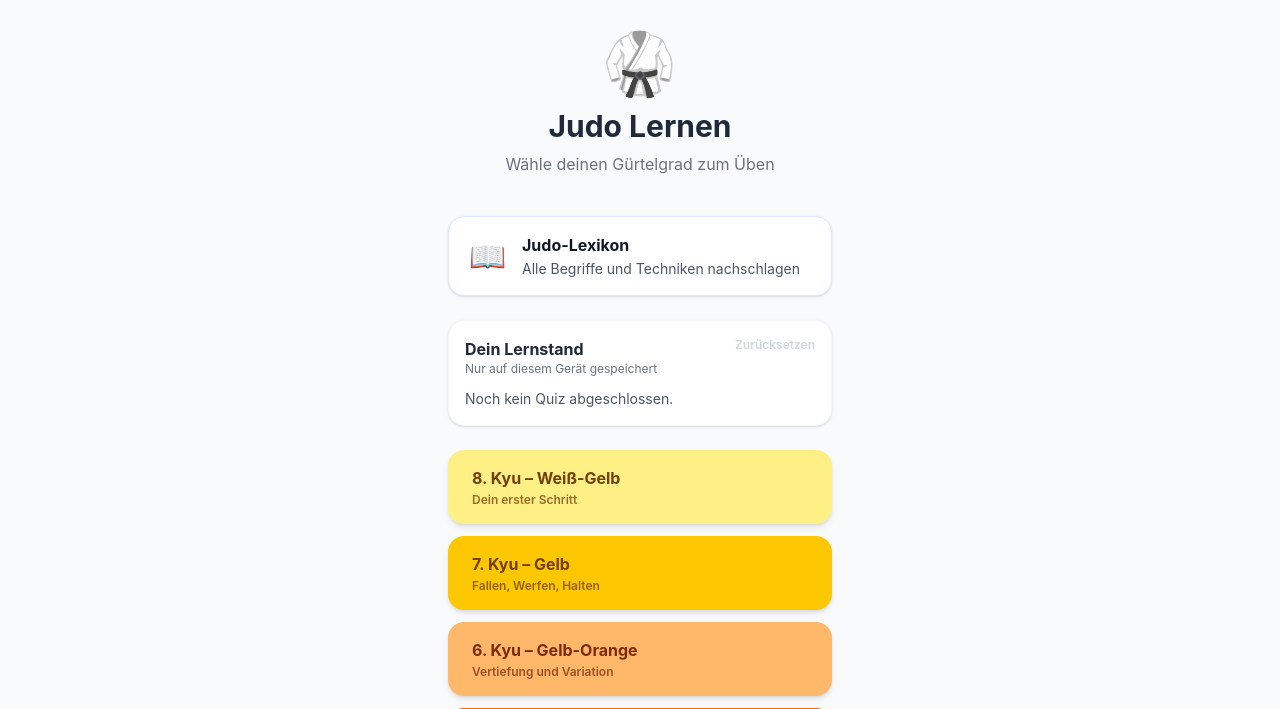
Test case: App – integration › keeps an in-progress quiz mounted while app information is open
This screenshot has width=1280, height=709.
Click the button with test id "grade-btn-kyu8".
click(546, 478)  # box left=448, top=450, right=832, bottom=524
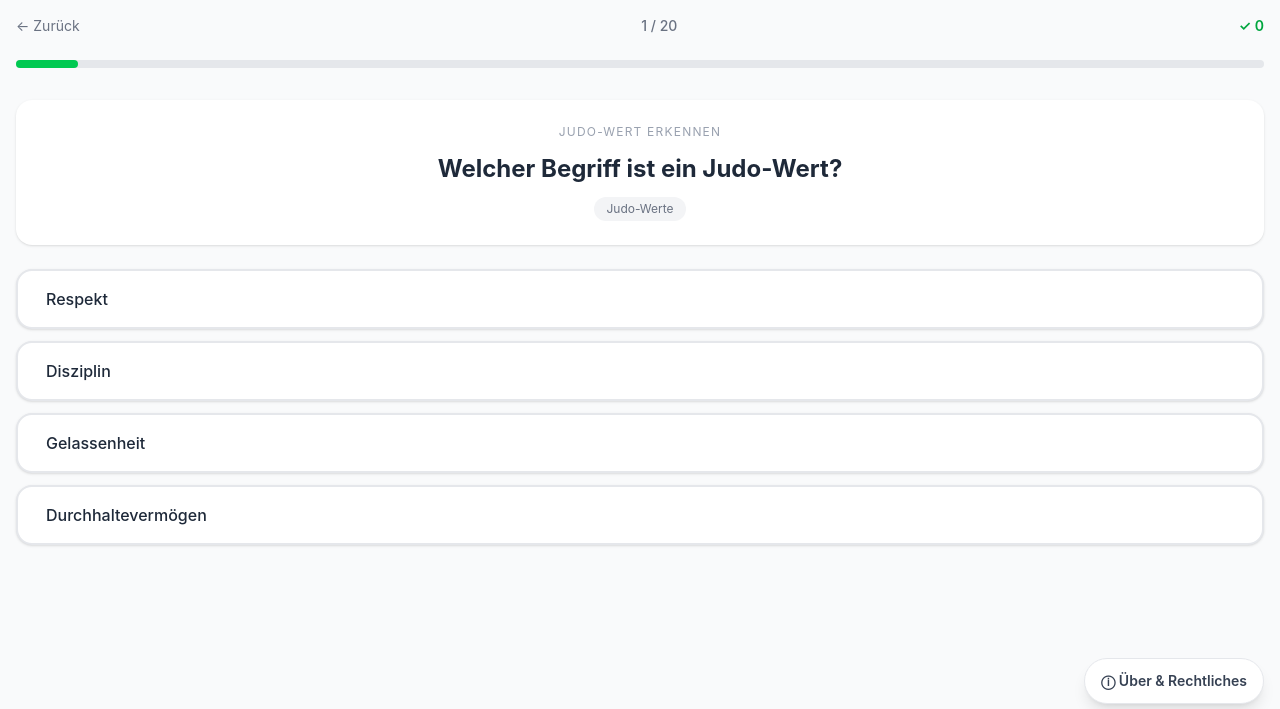
Click the button with test id "choice-correct".
click(77, 299)  # box left=16, top=269, right=1264, bottom=329
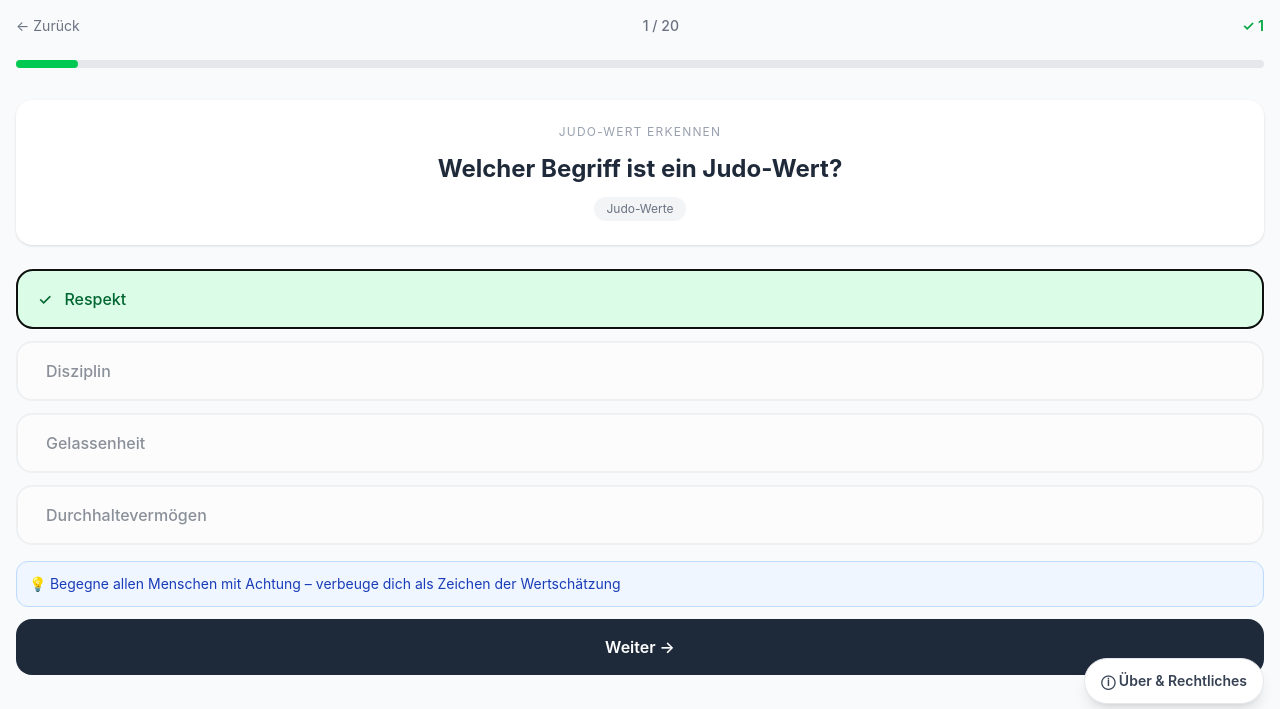
Click the button with test id "next-btn".
click(640, 647)  # box left=16, top=619, right=1264, bottom=675
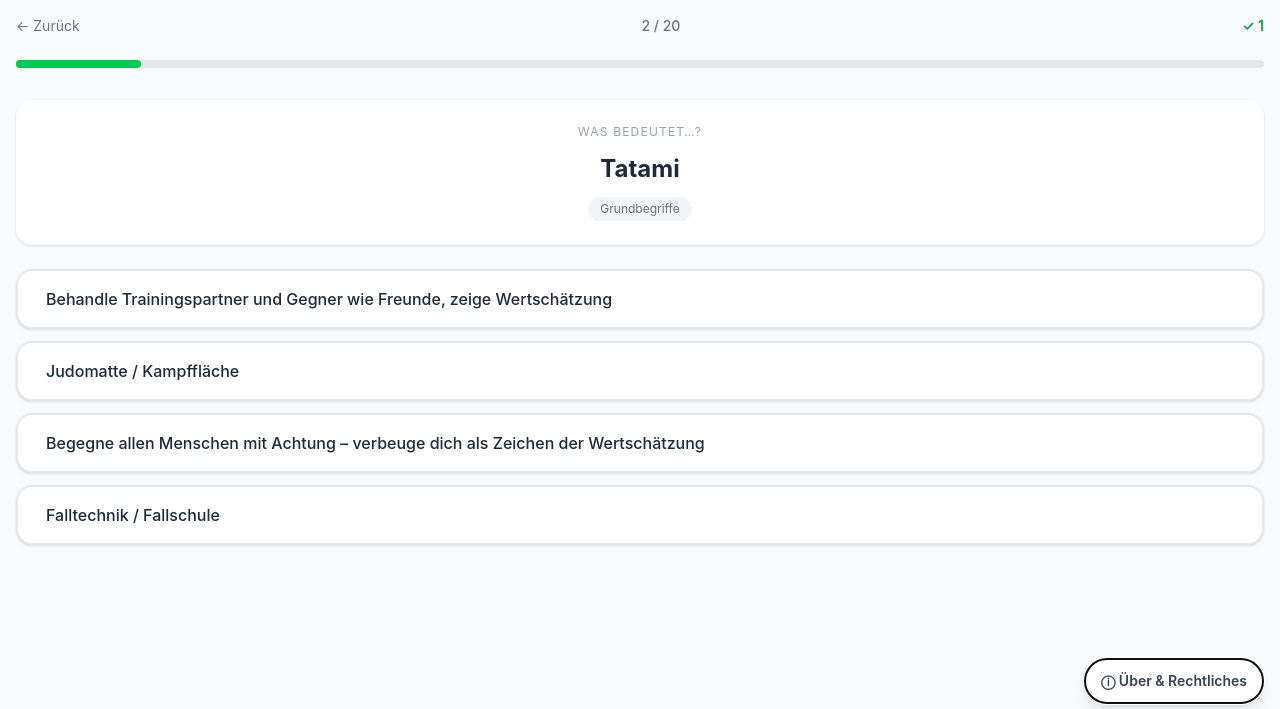
Check: the text with test id "score" shows "1", box left=1258, top=17, right=1264, bottom=34
Press Enter
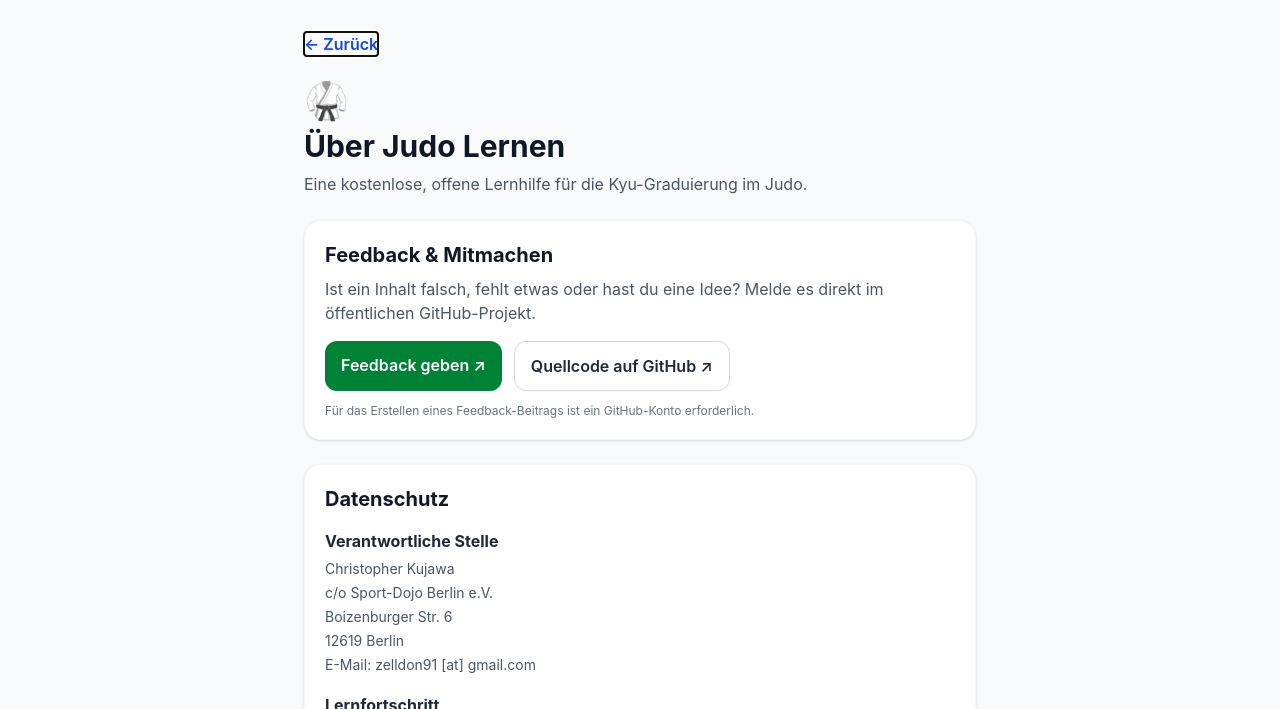
Press Enter
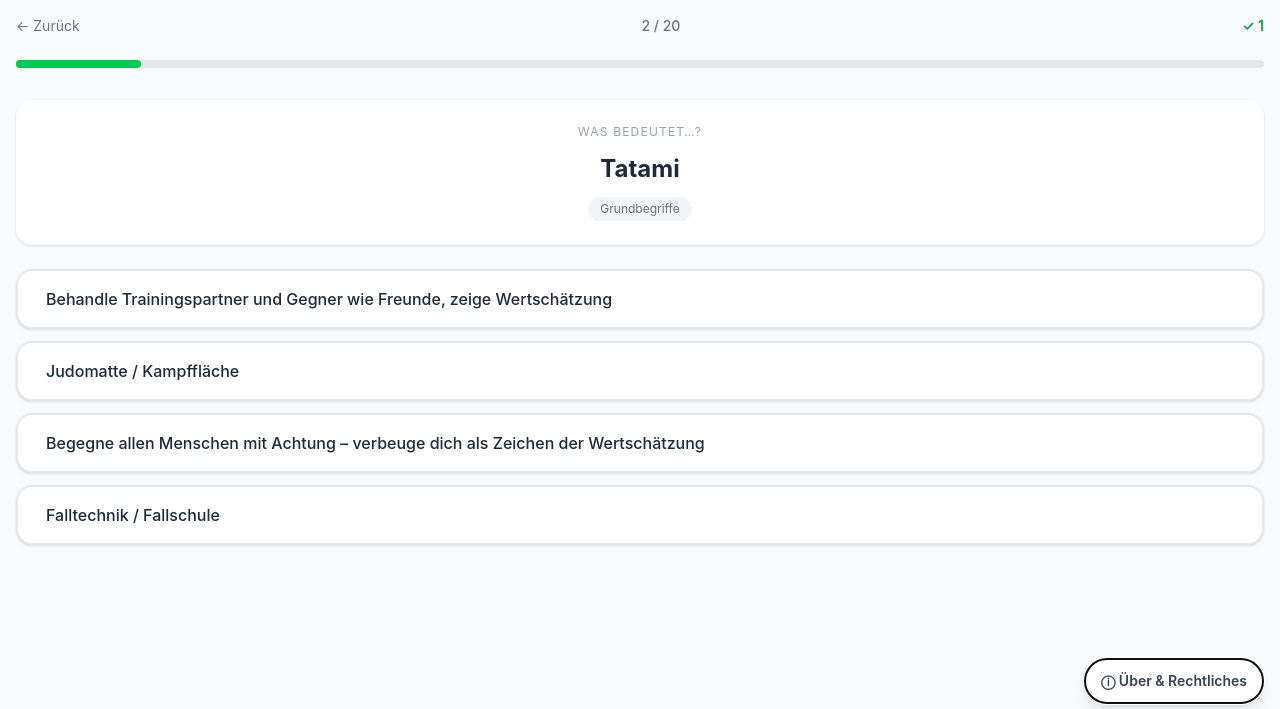
Check: the text with test id "score" shows "1", box left=1258, top=17, right=1264, bottom=34
